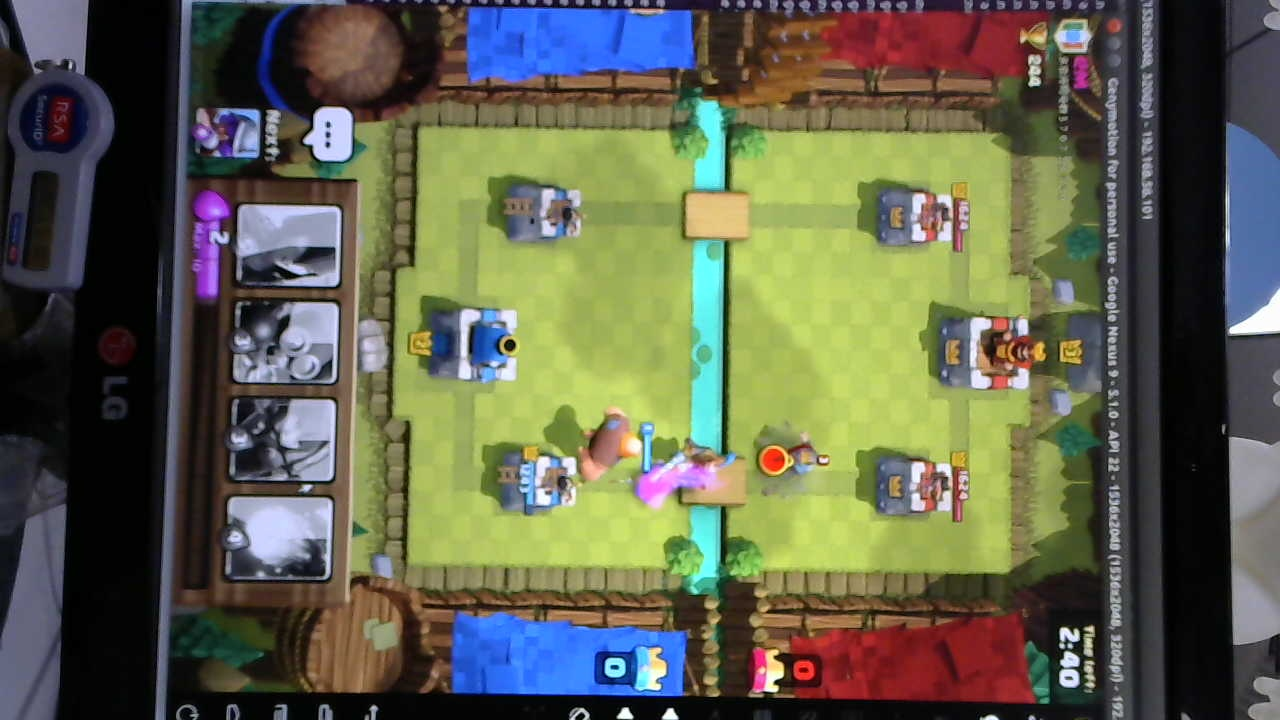knightE: (757, 435, 833, 481)
